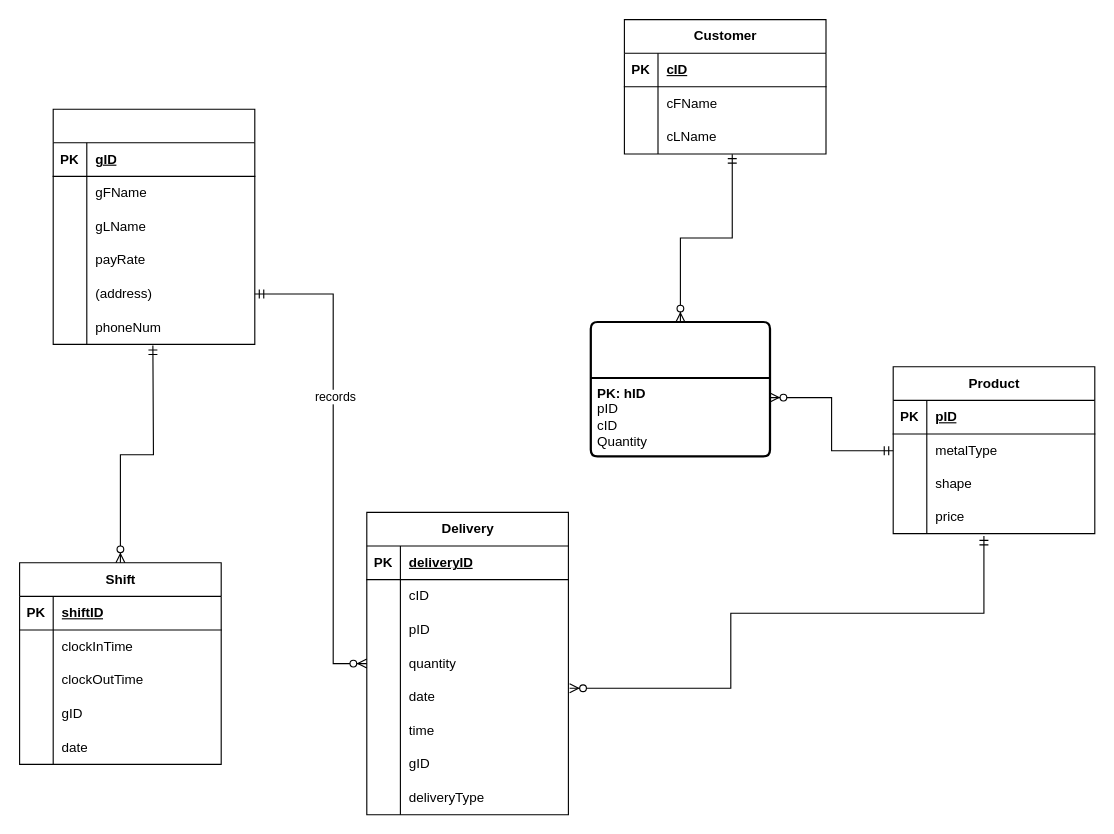
Image size: 1114x834. Some labels were removed from this diagram. Here are the shapes that lost their labels. From the top down, the box of each, then its label:
(52, 108, 255, 344): Guard
(589, 320, 771, 457): Holdings
